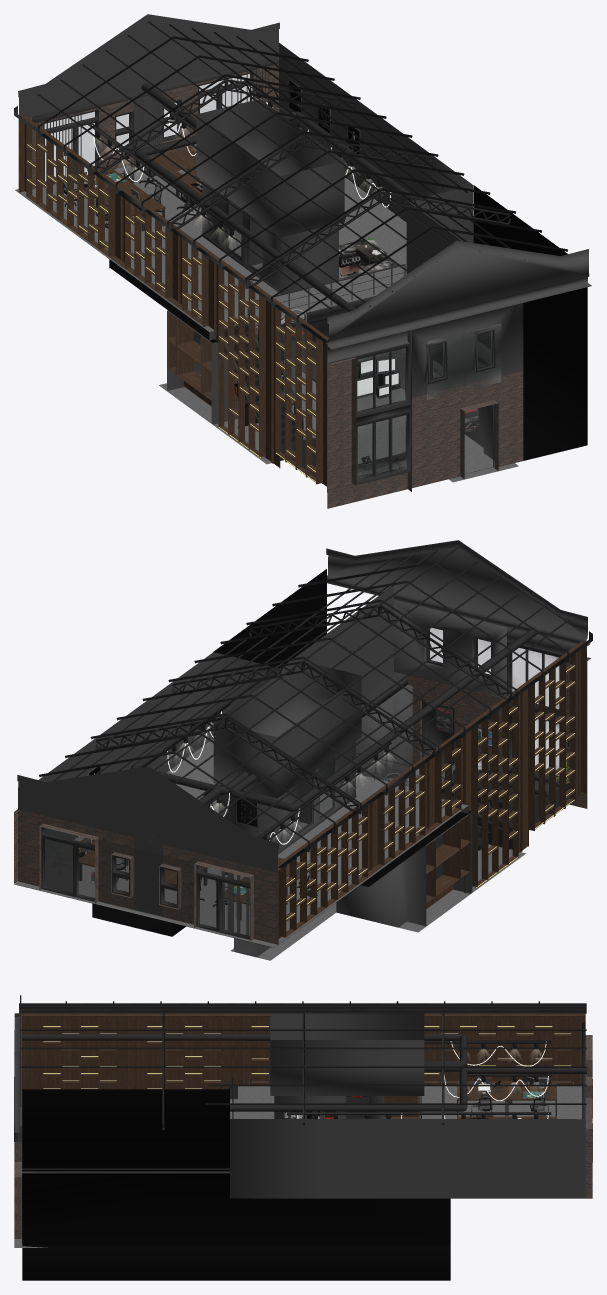
Rendered from office-5211eb4a.glb.
3 renders of one model, top to bottom at view 1: azimuth 30°, elevation 25°; view 2: azimuth 150°, elevation 25°; view 3: azimuth 270°, elevation 25°, orthographic. The views are drawn at different scales.
Parts seen in each view (by area): view 1: SM_00_010, BSM_MTL_Wood, BSM_MTL_Bricks, BSM_MTL_Porcelanato, SM_Atlas_Basic_001, BSM_MTL_Glass, SM_04_8, SM_06_01, BSM_MTL_MetalD, SM_lightMesh, SM_Glass_Dust, SM_00a_02; view 2: SM_00_010, BSM_MTL_Wood, BSM_MTL_Bricks, BSM_MTL_Glass, BSM_MTL_Porcelanato, SM_Atlas_Basic_001, SM_04_8, SM_lightMesh, BSM_MTL_MetalD; view 3: SM_00_010, SM_Atlas_Basic_001.001, BSM_MTL_Wood, SM_Atlas_Basic_001, BSM_MTL_Porcelanato, BSM_MTL_Bricks, SM_lightMesh, MTL_Desk, SM_05_03_001, SM_05_03, SM_LightWavesA_001.
Boxes of the visible parts, bbox=[...] form: SM_00_010: bbox=[14, 14, 591, 485]; BSM_MTL_Wood: bbox=[18, 115, 329, 492]; BSM_MTL_Bricks: bbox=[28, 57, 523, 508]; BSM_MTL_Porcelanato: bbox=[15, 149, 518, 482]; SM_Atlas_Basic_001: bbox=[109, 185, 587, 460]; BSM_MTL_Glass: bbox=[45, 74, 500, 479]; SM_04_8: bbox=[37, 66, 269, 184]; SM_06_01: bbox=[339, 238, 397, 279]; BSM_MTL_MetalD: bbox=[224, 324, 399, 476]; SM_lightMesh: bbox=[27, 144, 315, 481]; SM_Glass_Dust: bbox=[357, 323, 501, 479]; SM_00a_02: bbox=[357, 355, 400, 398]; SM_00_010: bbox=[14, 540, 592, 956]; BSM_MTL_Wood: bbox=[78, 641, 586, 944]; BSM_MTL_Bricks: bbox=[14, 657, 590, 944]; BSM_MTL_Glass: bbox=[44, 628, 558, 935]; BSM_MTL_Porcelanato: bbox=[15, 739, 525, 960]; SM_Atlas_Basic_001: bbox=[92, 569, 471, 936]; SM_04_8: bbox=[44, 827, 249, 935]; SM_lightMesh: bbox=[286, 665, 574, 919]; BSM_MTL_MetalD: bbox=[441, 773, 569, 850]; SM_00_010: bbox=[14, 995, 586, 1241]; SM_Atlas_Basic_001.001: bbox=[22, 1089, 450, 1244]; BSM_MTL_Wood: bbox=[14, 1013, 585, 1118]; SM_Atlas_Basic_001: bbox=[22, 1245, 450, 1280]; BSM_MTL_Porcelanato: bbox=[14, 1083, 581, 1247]; BSM_MTL_Bricks: bbox=[14, 1030, 592, 1238]; SM_lightMesh: bbox=[43, 1026, 570, 1088]; MTL_Desk: bbox=[468, 1076, 550, 1118]; SM_05_03_001: bbox=[469, 1077, 549, 1116]; SM_05_03: bbox=[471, 1076, 548, 1116]; SM_LightWavesA_001: bbox=[297, 1041, 548, 1118].
Bounding box in the file's own units: 11.72 × 9.83 × 23.81.
Materials: 40 (32 with a texture image).
